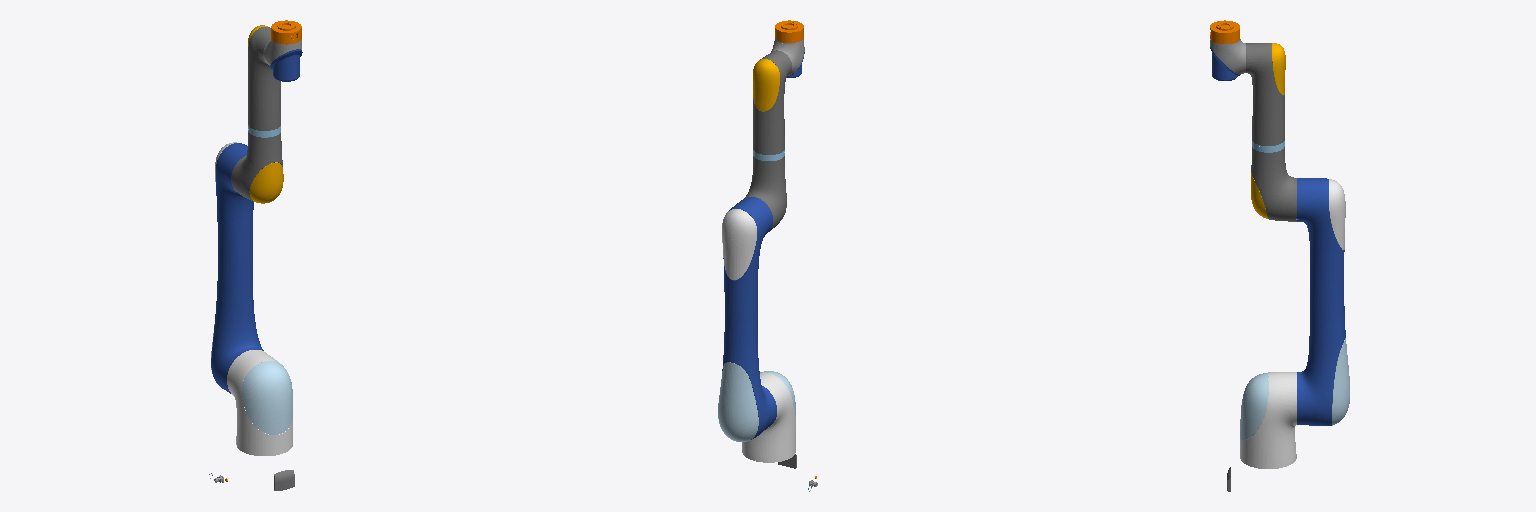
The robot description file, URDF, robot "assembly_1":
<!--URDF generated by ONSHAPE BY PTC INC, 1.217-->
<robot name="assembly_1">
    <link name="root">
        <visual>
            <origin xyz="0 0 0" rpy="0 -0 0" />
            <geometry>
                <mesh filename="package://assembly_1/meshes/Thin39C8017Baiiu.stl" scale="1 1 1" />
            </geometry>
            <material name="0.615686_0.811765_0.929412_0.000000_0.000000">
                <color rgba="0.615686 0.811765 0.929412 1" />
            </material>
        </visual>
        <visual>
            <origin xyz="0 0 0" rpy="0 -0 0" />
            <geometry>
                <mesh filename="package://assembly_1/meshes/Thin39C8017Baiiu_1.stl" scale="1 1 1" />
            </geometry>
            <material name="0.615686_0.811765_0.929412_0.000000_0.000000">
                <texture />
                <color rgba="0.615686 0.811765 0.929412 1" />
            </material>
        </visual>
        <visual>
            <origin xyz="0 0 0" rpy="0 -0 0" />
            <geometry>
                <mesh filename="package://assembly_1/meshes/Thin39C8017Baiiu_2.stl" scale="1 1 1" />
            </geometry>
            <material name="0.231373_0.380392_0.705882_0.000000_0.000000">
                <texture />
                <color rgba="0.231373 0.380392 0.705882 1" />
            </material>
        </visual>
        <visual>
            <origin xyz="0 0 0" rpy="0 -0 0" />
            <geometry>
                <mesh filename="package://assembly_1/meshes/Thin39C8017Baiiu_3.stl" scale="1 1 1" />
            </geometry>
            <material name="0.498039_0.498039_0.498039_0.000000_0.000000">
                <texture />
                <color rgba="0.498039 0.498039 0.498039 1" />
            </material>
        </visual>
        <visual>
            <origin xyz="0 0 0" rpy="0 -0 0" />
            <geometry>
                <mesh filename="package://assembly_1/meshes/Thin39C8017Baiiu_4.stl" scale="1 1 1" />
            </geometry>
            <material name="0.917647_0.917647_0.917647_0.000000_0.000000">
                <texture />
                <color rgba="0.917647 0.917647 0.917647 1" />
            </material>
        </visual>
        <visual>
            <origin xyz="0 0 0" rpy="0 -0 0" />
            <geometry>
                <mesh filename="package://assembly_1/meshes/Thin39C8017Baiiu_5.stl" scale="1 1 1" />
            </geometry>
            <material name="0.498039_0.498039_0.498039_0.000000_0.000000">
                <texture />
                <color rgba="0.498039 0.498039 0.498039 1" />
            </material>
        </visual>
        <visual>
            <origin xyz="0 0 0" rpy="0 -0 0" />
            <geometry>
                <mesh filename="package://assembly_1/meshes/Thin39C8017Baiiu_6.stl" scale="1 1 1" />
            </geometry>
            <material name="0.498039_0.498039_0.498039_0.000000_0.000000">
                <texture />
                <color rgba="0.498039 0.498039 0.498039 1" />
            </material>
        </visual>
        <visual>
            <origin xyz="0 0 0" rpy="0 -0 0" />
            <geometry>
                <mesh filename="package://assembly_1/meshes/Thin39C8017Baiiu_7.stl" scale="1 1 1" />
            </geometry>
            <material name="0.647059_0.647059_0.647059_0.000000_0.000000">
                <texture />
                <color rgba="0.647059 0.647059 0.647059 1" />
            </material>
        </visual>
        <visual>
            <origin xyz="0 0 0" rpy="0 -0 0" />
            <geometry>
                <mesh filename="package://assembly_1/meshes/Thin39C8017Baiiu_8.stl" scale="1 1 1" />
            </geometry>
            <material name="0.231373_0.380392_0.705882_0.000000_0.000000">
                <texture />
                <color rgba="0.231373 0.380392 0.705882 1" />
            </material>
        </visual>
        <visual>
            <origin xyz="0 0 0" rpy="0 -0 0" />
            <geometry>
                <mesh filename="package://assembly_1/meshes/Thin39C8017Baiiu_9.stl" scale="1 1 1" />
            </geometry>
            <material name="0.972549_0.529412_0.003922_0.000000_0.000000">
                <texture />
                <color rgba="0.972549 0.529412 0.00392157 1" />
            </material>
        </visual>
        <visual>
            <origin xyz="0 0 0" rpy="0 -0 0" />
            <geometry>
                <mesh filename="package://assembly_1/meshes/Thin39C8017Baiiu_10.stl" scale="1 1 1" />
            </geometry>
            <material name="0.647059_0.647059_0.647059_0.000000_0.000000">
                <texture />
                <color rgba="0.647059 0.647059 0.647059 1" />
            </material>
        </visual>
        <visual>
            <origin xyz="0 0 0" rpy="0 -0 0" />
            <geometry>
                <mesh filename="package://assembly_1/meshes/Thin39C8017Baiiu_11.stl" scale="1 1 1" />
            </geometry>
            <material name="0.980392_0.713725_0.003922_0.000000_0.000000">
                <texture />
                <color rgba="0.980392 0.713726 0.00392157 1" />
            </material>
        </visual>
        <visual>
            <origin xyz="0 0 0" rpy="0 -0 0" />
            <geometry>
                <mesh filename="package://assembly_1/meshes/Thin39C8017Baiiu_12.stl" scale="1 1 1" />
            </geometry>
            <material name="0.768627_0.886275_0.952941_0.000000_0.000000">
                <texture />
                <color rgba="0.768627 0.886275 0.952941 1" />
            </material>
        </visual>
        <visual>
            <origin xyz="0 0 0" rpy="0 -0 0" />
            <geometry>
                <mesh filename="package://assembly_1/meshes/Thin39C8017Baiiu_13.stl" scale="1 1 1" />
            </geometry>
            <material name="0.768627_0.886275_0.952941_0.000000_0.000000">
                <texture />
                <color rgba="0.768627 0.886275 0.952941 1" />
            </material>
        </visual>
        <visual>
            <origin xyz="0 0 0" rpy="0 -0 0" />
            <geometry>
                <mesh filename="package://assembly_1/meshes/Thin39C8017Baiiu_14.stl" scale="1 1 1" />
            </geometry>
            <material name="0.972549_0.529412_0.003922_0.000000_0.000000">
                <texture />
                <color rgba="0.972549 0.529412 0.00392157 1" />
            </material>
        </visual>
        <visual>
            <origin xyz="0 0 0" rpy="0 -0 0" />
            <geometry>
                <mesh filename="package://assembly_1/meshes/Thin39C8017Baiiu_15.stl" scale="1 1 1" />
            </geometry>
            <material name="0.980392_0.713725_0.003922_0.000000_0.000000">
                <texture />
                <color rgba="0.980392 0.713726 0.00392157 1" />
            </material>
        </visual>
        <visual>
            <origin xyz="0 0 0" rpy="0 -0 0" />
            <geometry>
                <mesh filename="package://assembly_1/meshes/Thin39C8017Baiiu_16.stl" scale="1 1 1" />
            </geometry>
            <material name="0.980392_0.713725_0.003922_0.000000_0.000000">
                <texture />
                <color rgba="0.980392 0.713726 0.00392157 1" />
            </material>
        </visual>
        <visual>
            <origin xyz="0 0 0" rpy="0 -0 0" />
            <geometry>
                <mesh filename="package://assembly_1/meshes/Thin39C8017Baiiu_17.stl" scale="1 1 1" />
            </geometry>
            <material name="0.917647_0.917647_0.917647_0.000000_0.000000">
                <texture />
                <color rgba="0.917647 0.917647 0.917647 1" />
            </material>
        </visual>
    </link>
</robot>

--- What the picture shows (computed from the rendered views, not written in the file) ---
Views: 3 orthographic renders of the robot side by side, from view 1: azimuth 30°, elevation 25°; view 2: azimuth 150°, elevation 25°; view 3: azimuth 270°, elevation 25°.
Model assembly_1 with 1 links and 0 joints (none), rooted at root, posed every joint at zero.
Links seen in each view (by area): view 1: root; view 2: root; view 3: root.
Link boxes in pixels (x1,y1,x2,y2): root: (209, 20, 302, 490); root: (718, 20, 817, 491); root: (1210, 20, 1349, 491).
Bounding box of the posed robot: 0.2971 × 0.4872 × 1.77 m (x, y, z).
17 mesh visuals loaded from 18 distinct referenced files (17 binary STL); not drawn: 1 (reference not matched to a file when rendering).
